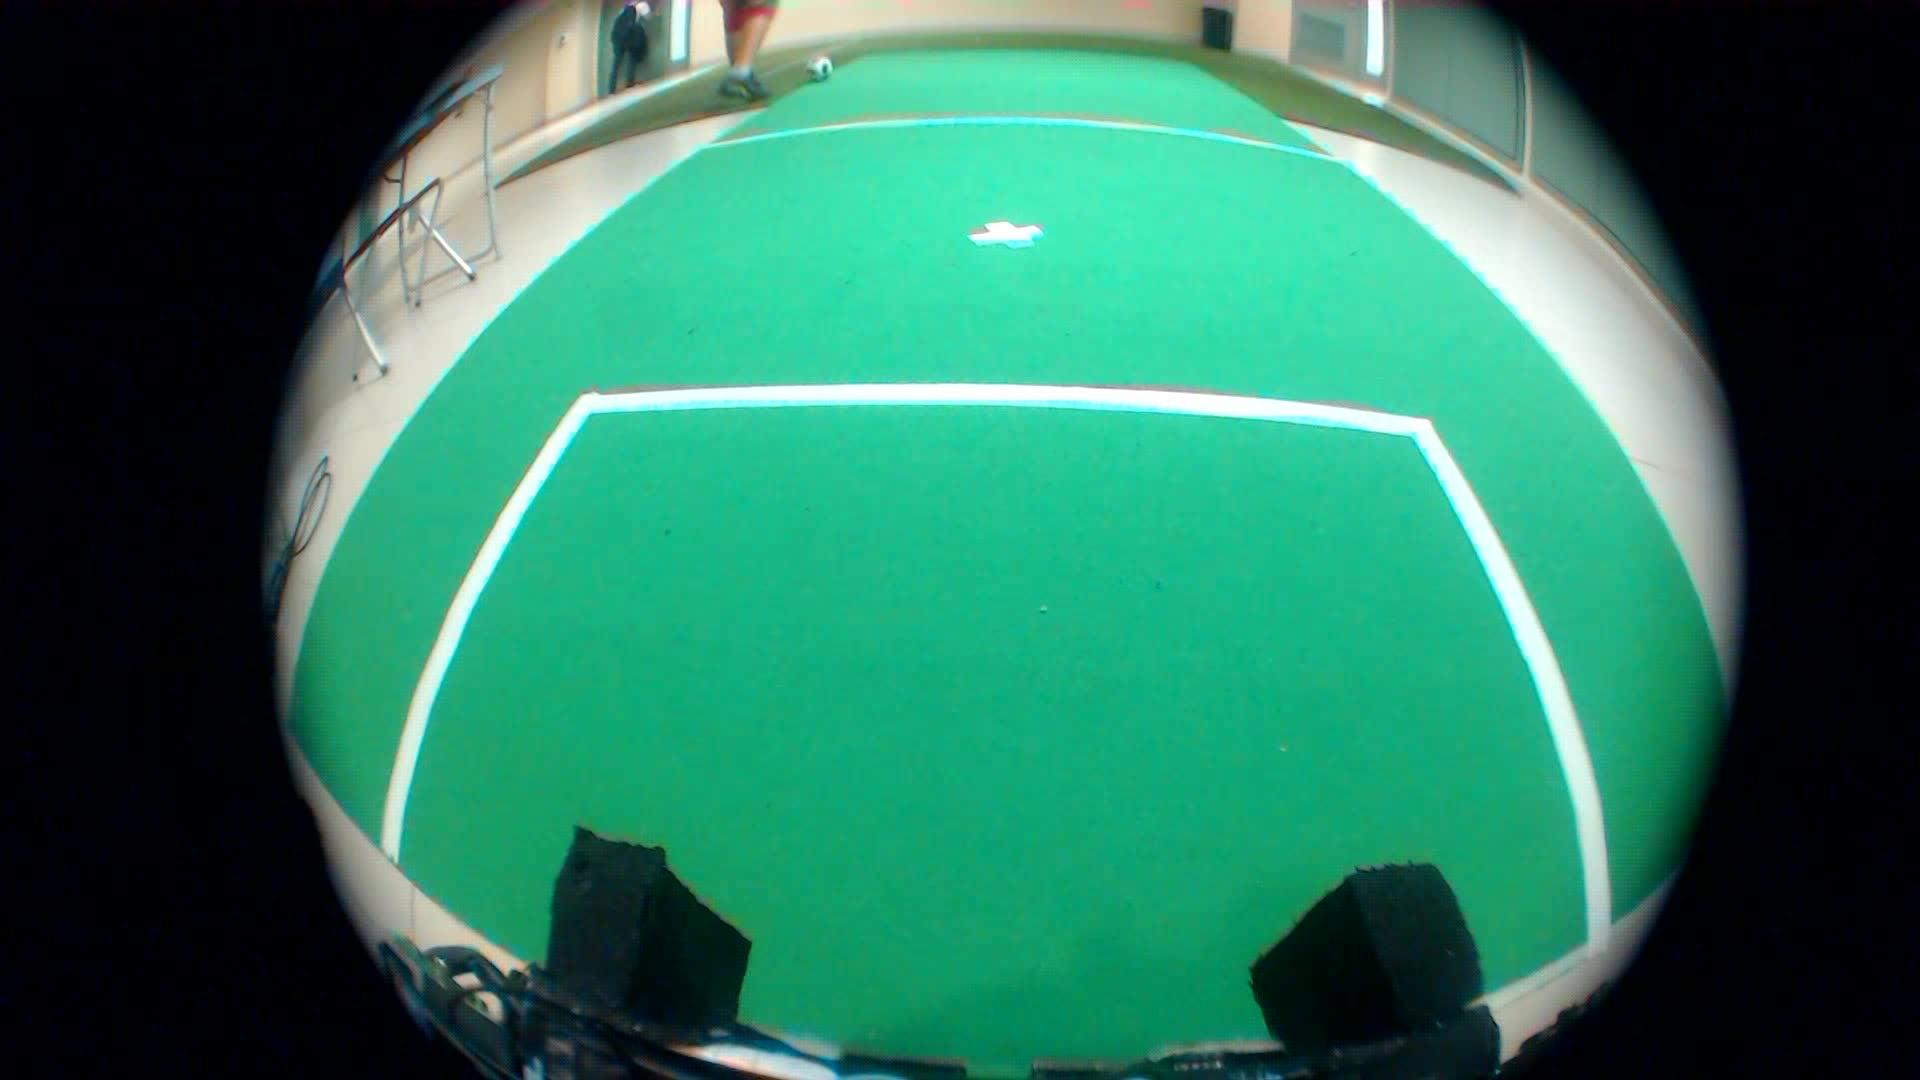ball: (789, 47, 828, 90)
